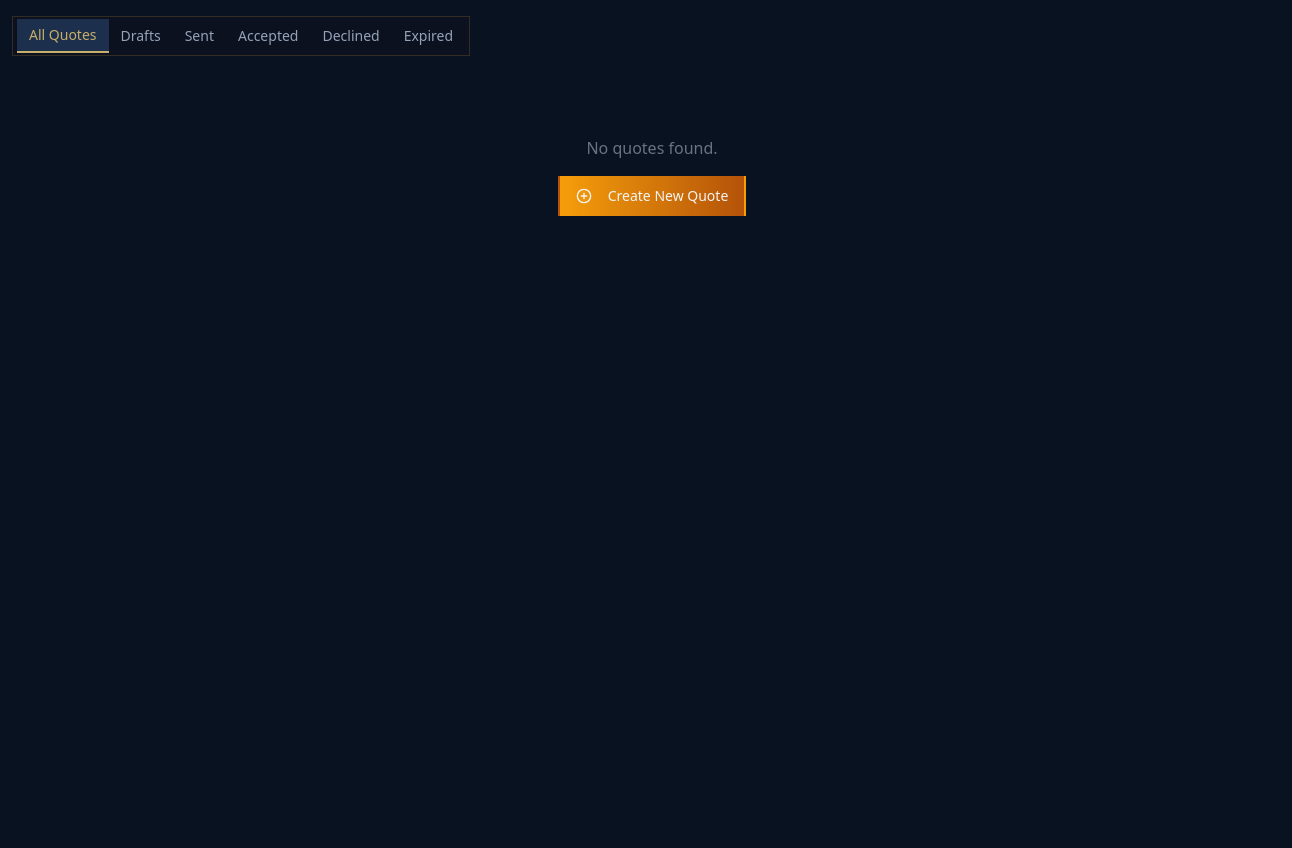
Test case: QuoteManager – validation timing › shows errors for all required fields after attempting to save the disabled form
Click the button "Create New Quote" at (652, 196), box [558,176,746,216]
(page scrolled)
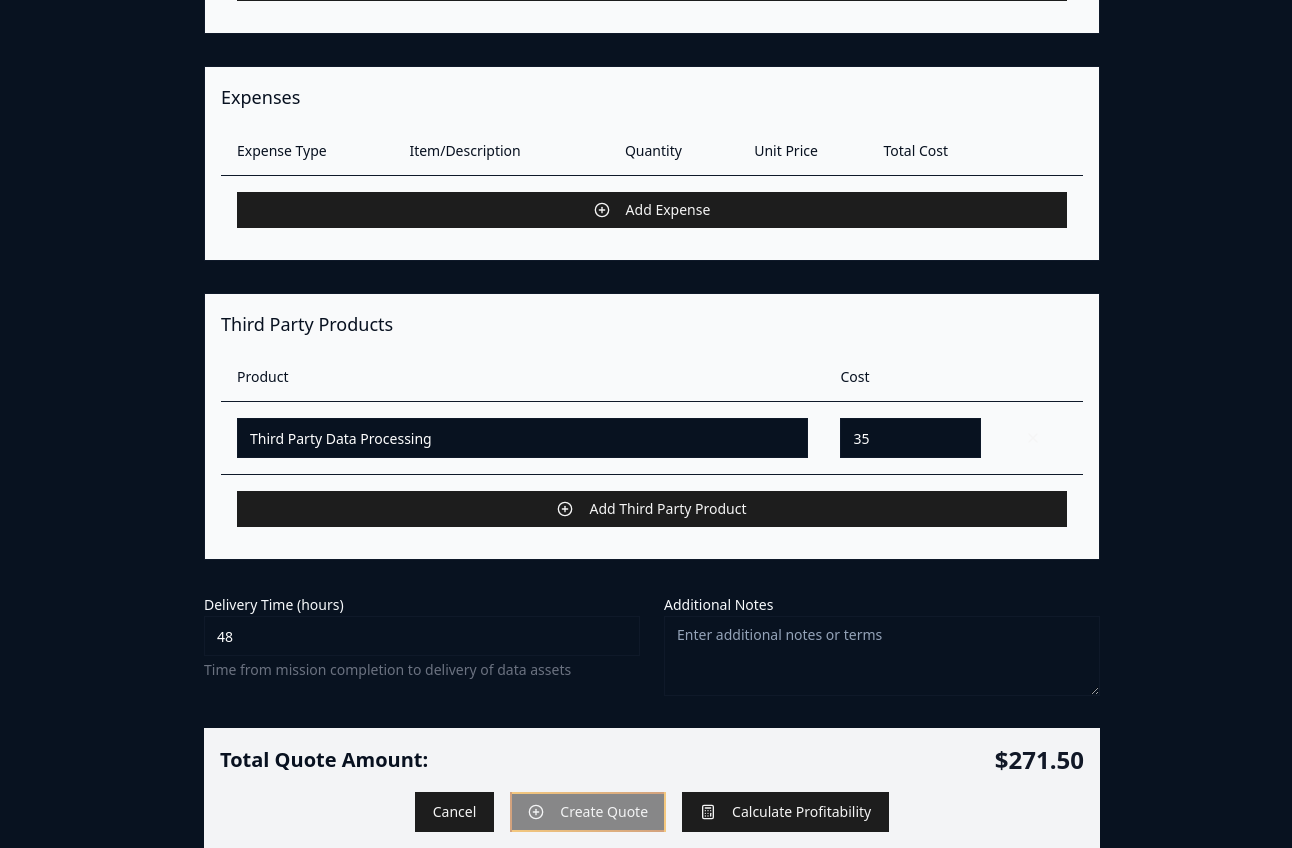
Result: the button "Create Quote" is disabled
Click the element showing "Create Quote" at (588, 812), box [510,792,666,832]
(page scrolled)
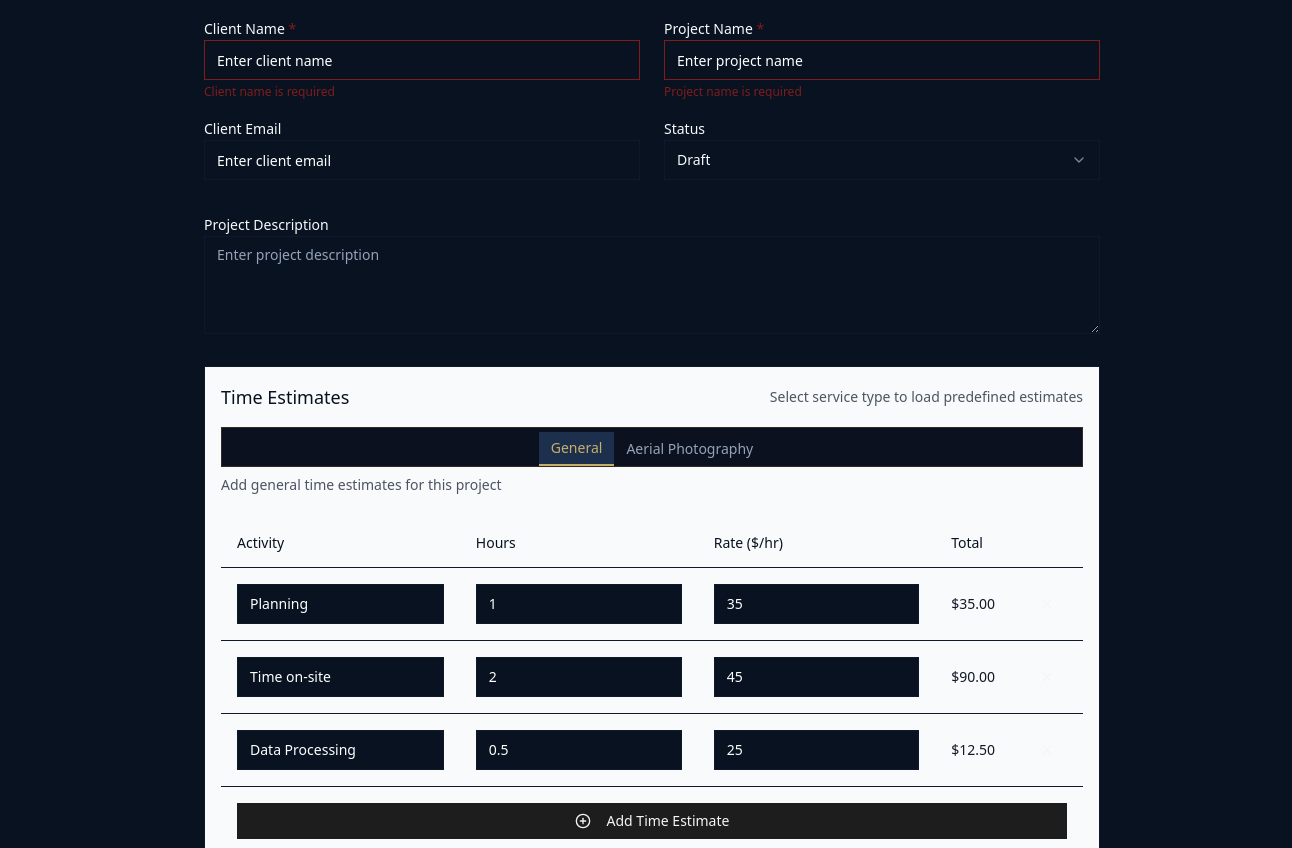
Result: the text "Client name is required" is shown at [204,83,335,100]
Result: the text "Project name is required" is shown at [664,83,802,100]
